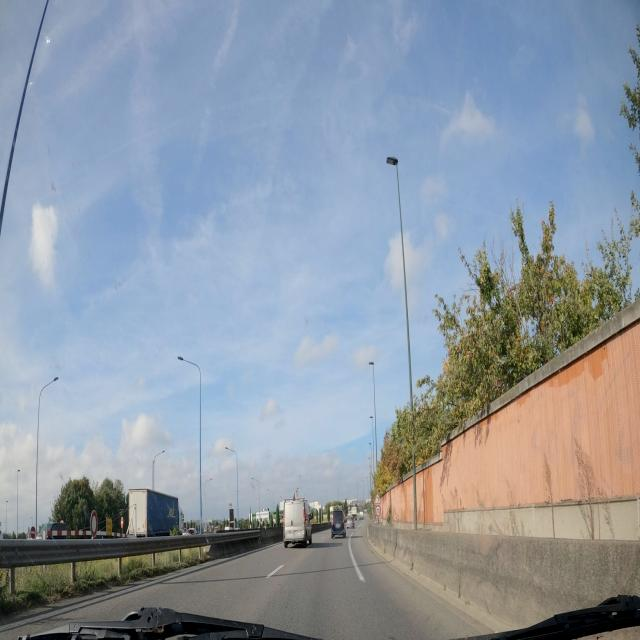car: (283, 494, 313, 547), (330, 507, 347, 539), (46, 520, 69, 538)
